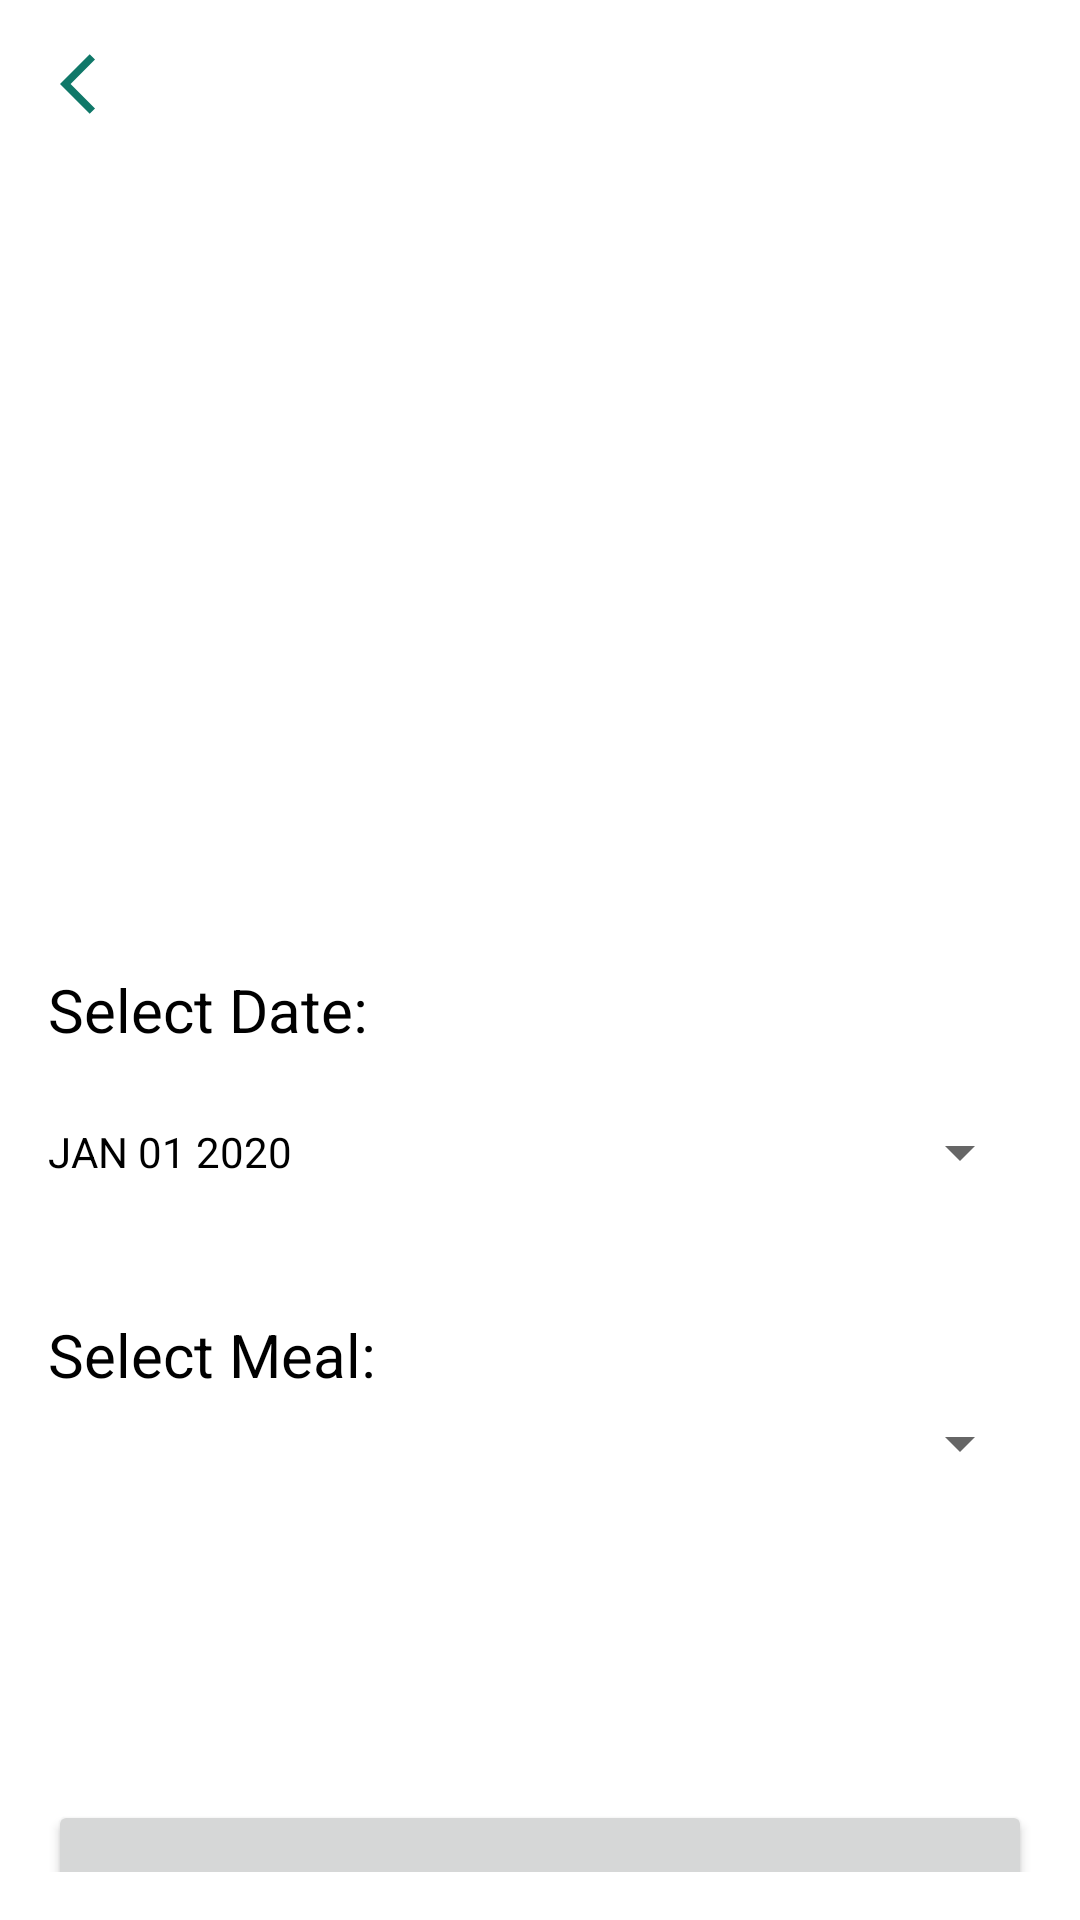

Where to tap for icons on this 1080 x 1920 app screen, as (x=x, y=y):
back: (x=77, y=84)
